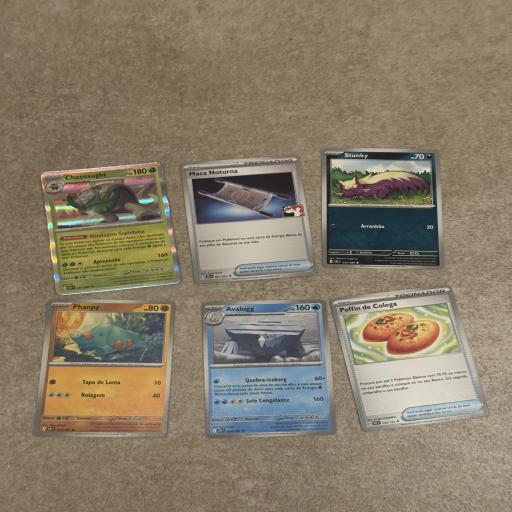card: (330, 267, 491, 448), (40, 156, 183, 299), (33, 298, 176, 438), (202, 298, 338, 439), (180, 154, 317, 285), (322, 148, 445, 270)
